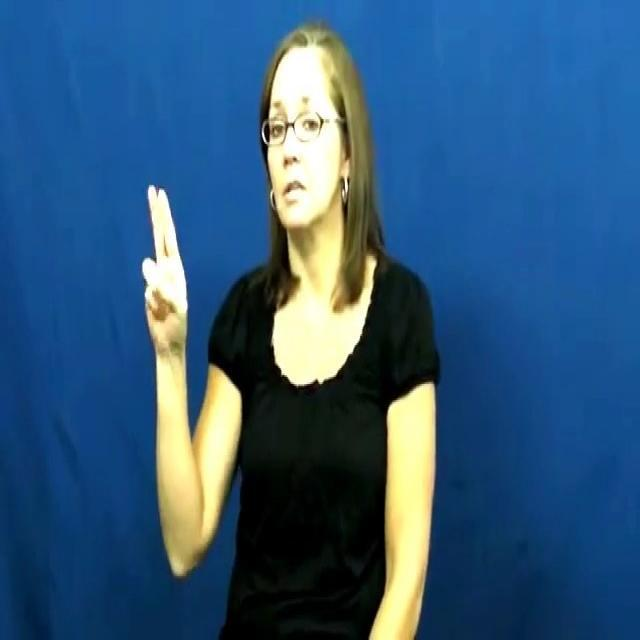sauce: (136, 169, 206, 370)
